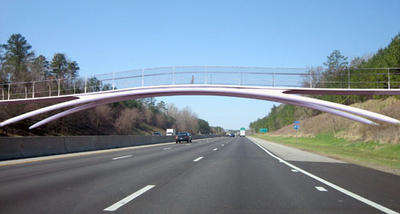bridge: (1, 64, 400, 129)
